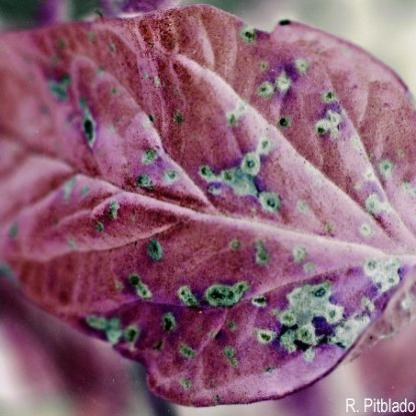tomato septoria leaf spot: (1, 14, 410, 406)
